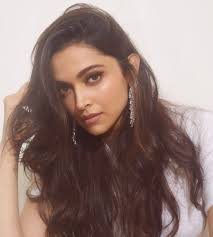s.black: (86, 85, 130, 114)
